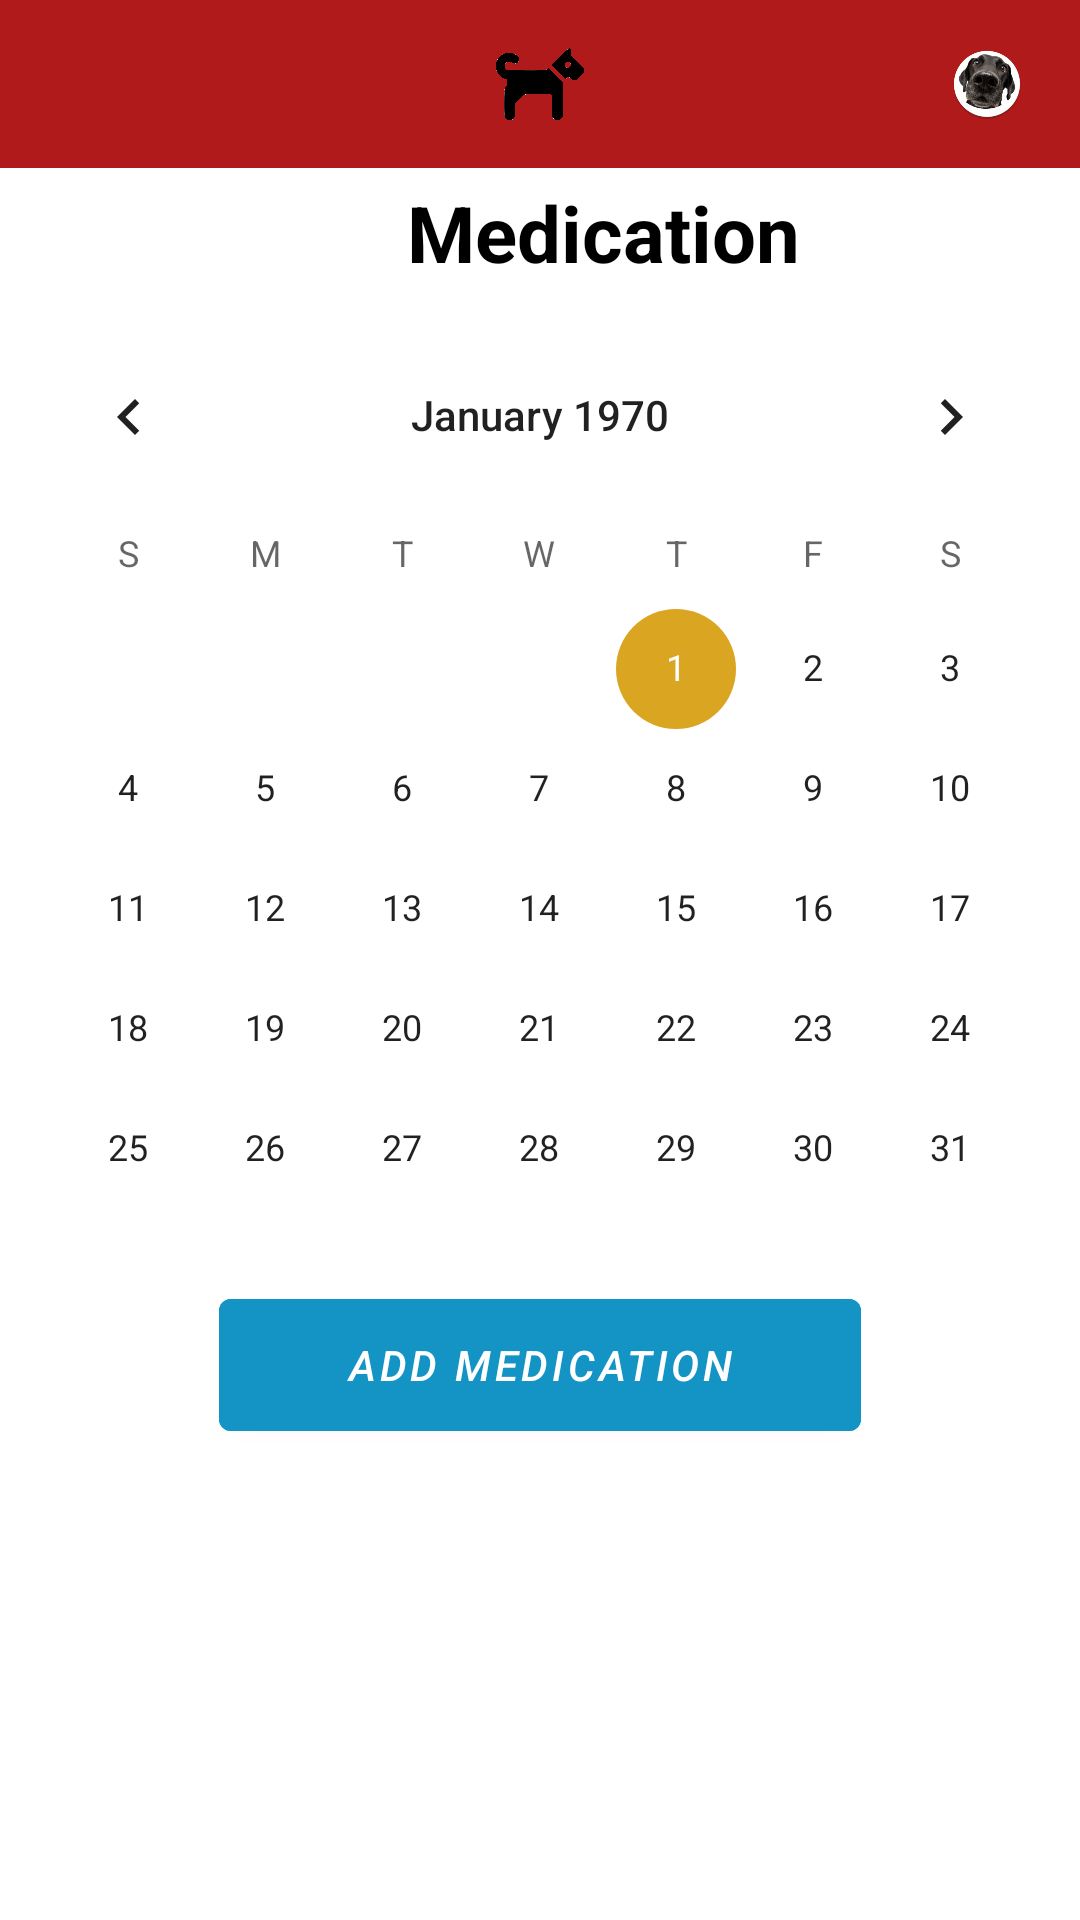

Icons on this 1080px x 1920px Android screen, each with its box as (x1, y1, x2, y2):
dog: (496, 48, 584, 120), (954, 51, 1020, 118)
